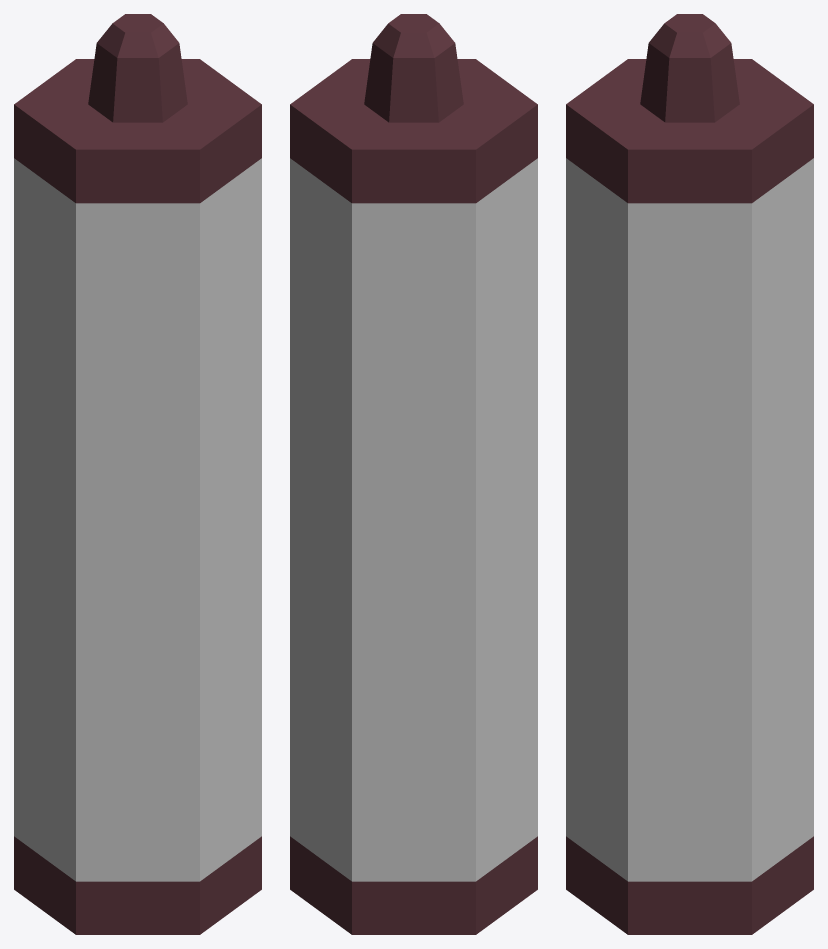
File: tools-glue-big.glb
The picture shows the model from 3 angles, left to right: view 1: azimuth 30°, elevation 25°; view 2: azimuth 150°, elevation 25°; view 3: azimuth 270°, elevation 25°; orthographic projection.
Visible parts, largest first — view 1: glue-big; view 2: glue-big; view 3: glue-big.
Part boxes in pixels (x1=…): glue-big: x1=14, y1=14, x2=261, y2=934; glue-big: x1=290, y1=14, x2=537, y2=934; glue-big: x1=566, y1=14, x2=813, y2=934.
Bounding box in the file's own units: 0.0602 × 0.268 × 0.0695.
